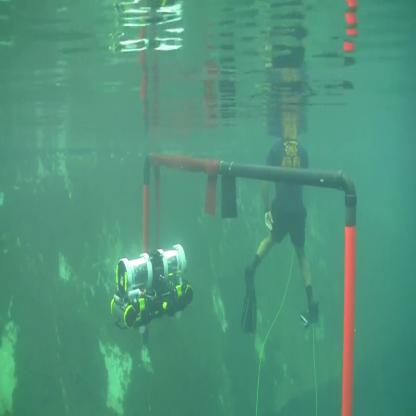gate: (140, 146, 361, 416)
